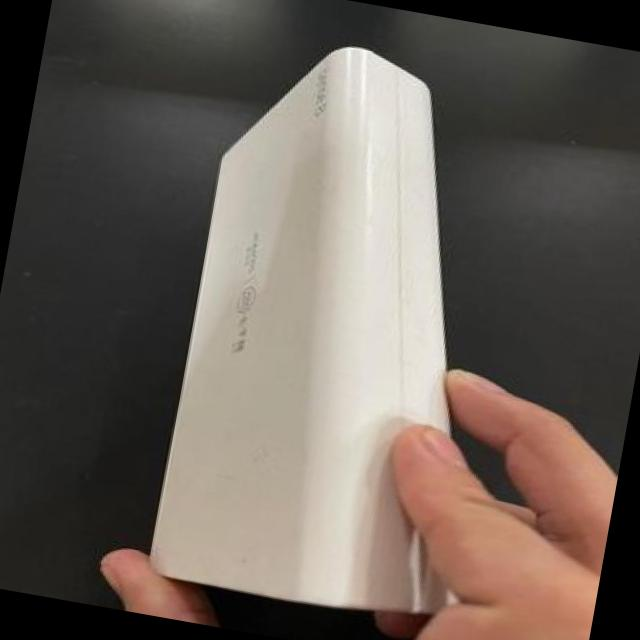portable-charger: (62, 1, 580, 640)
